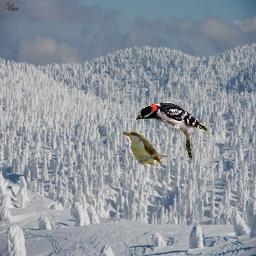Cuckoo: (121, 128, 168, 166)
Woodpecker: (136, 101, 210, 162)
